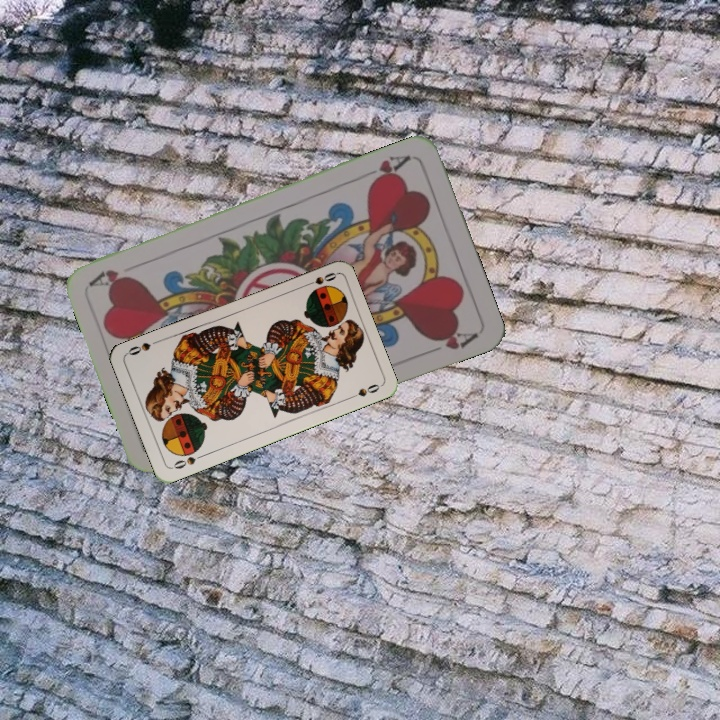HA: (358, 150, 414, 188)
SO: (299, 268, 339, 290), (168, 451, 207, 472)
